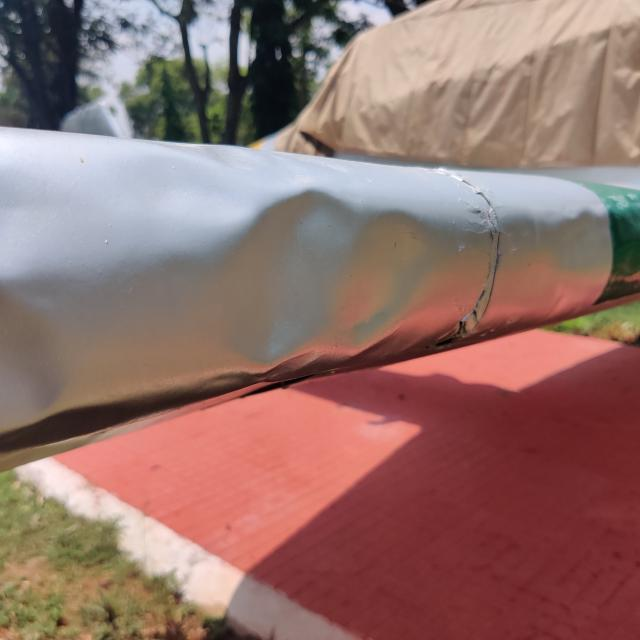dent: (167, 162, 455, 396), (0, 262, 109, 430)
